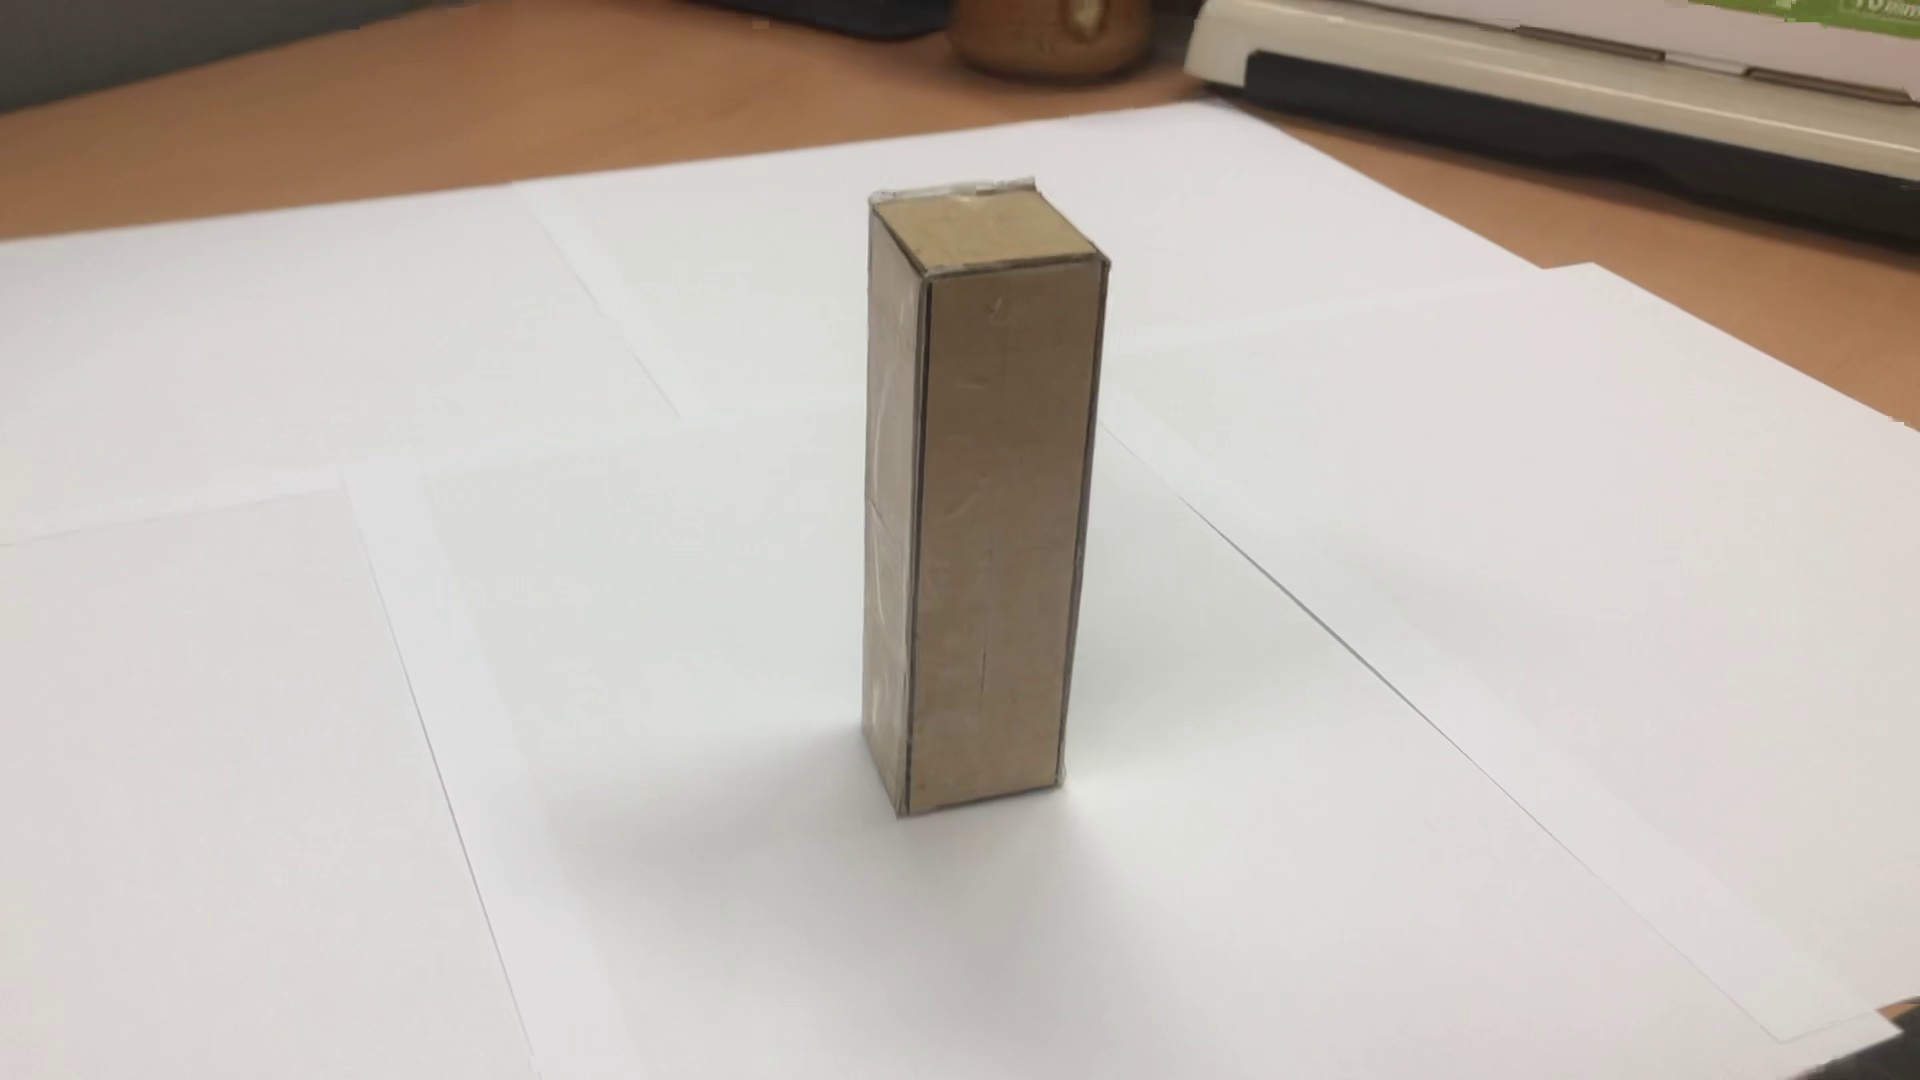box: (833, 152, 1113, 843)
